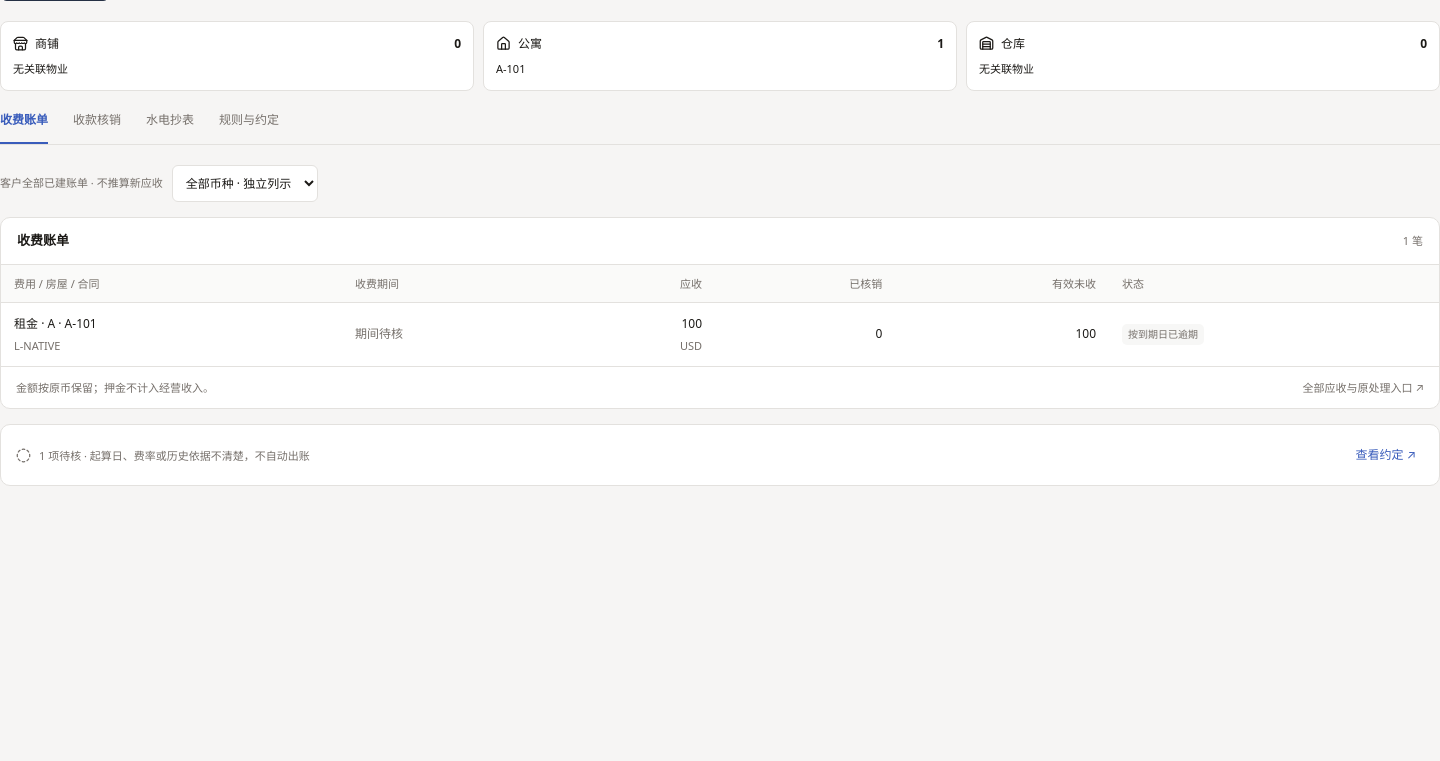
Test: retains keyboard-accessible tabs and the same explicit billing forms
The width and height of the screenshot is (1440, 761).
Press End in the tab "收费账单", box [0, 111, 48, 144]
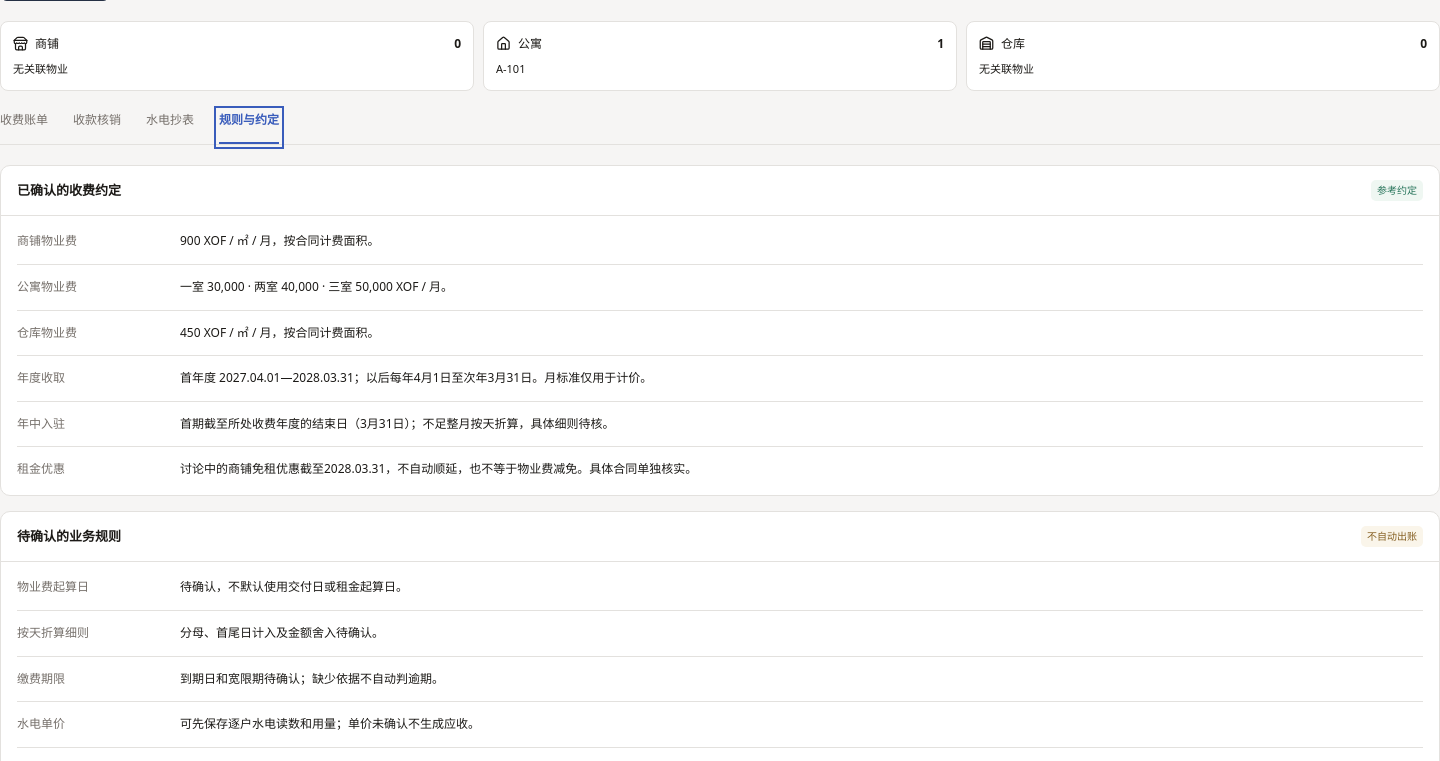
Expected: the text "约定" is shown, [219, 111, 279, 144]
Expected: the tab "规则与约定" is selected, [219, 111, 279, 144]
Click the tab "水电抄表": point(170, 128) [146, 111, 194, 144]
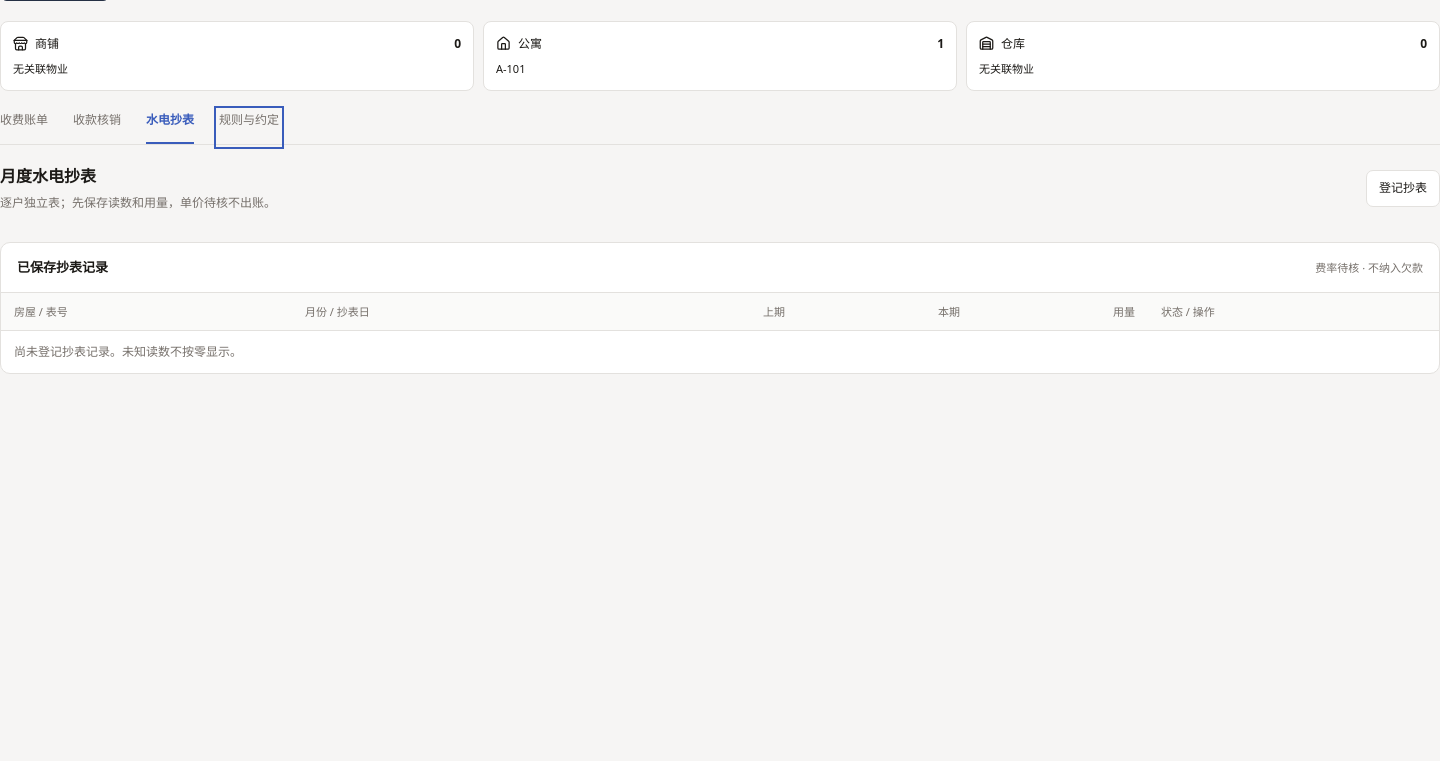
Click the button "登记抄表": point(1403, 189) [1366, 170, 1439, 207]
(page scrolled)
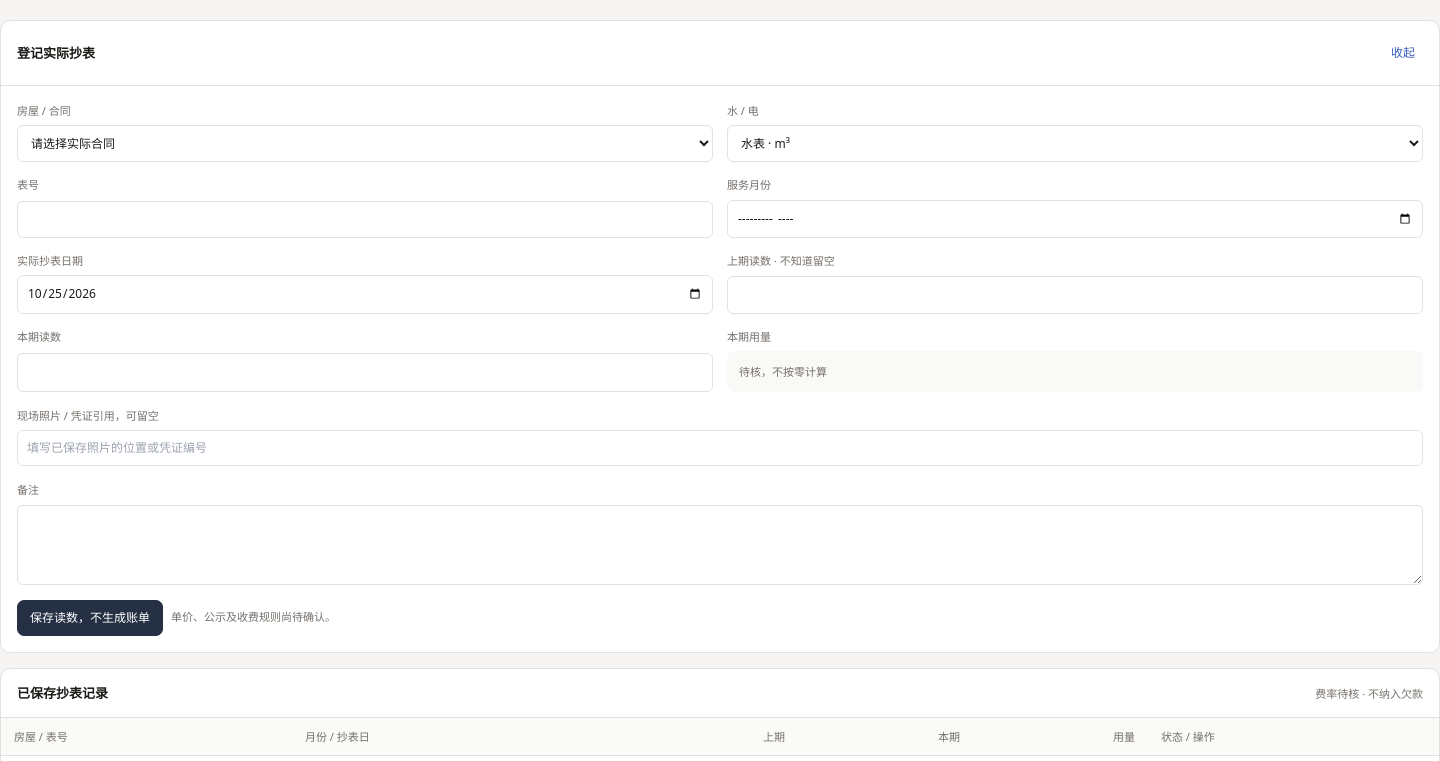
Expected: the form is shown
